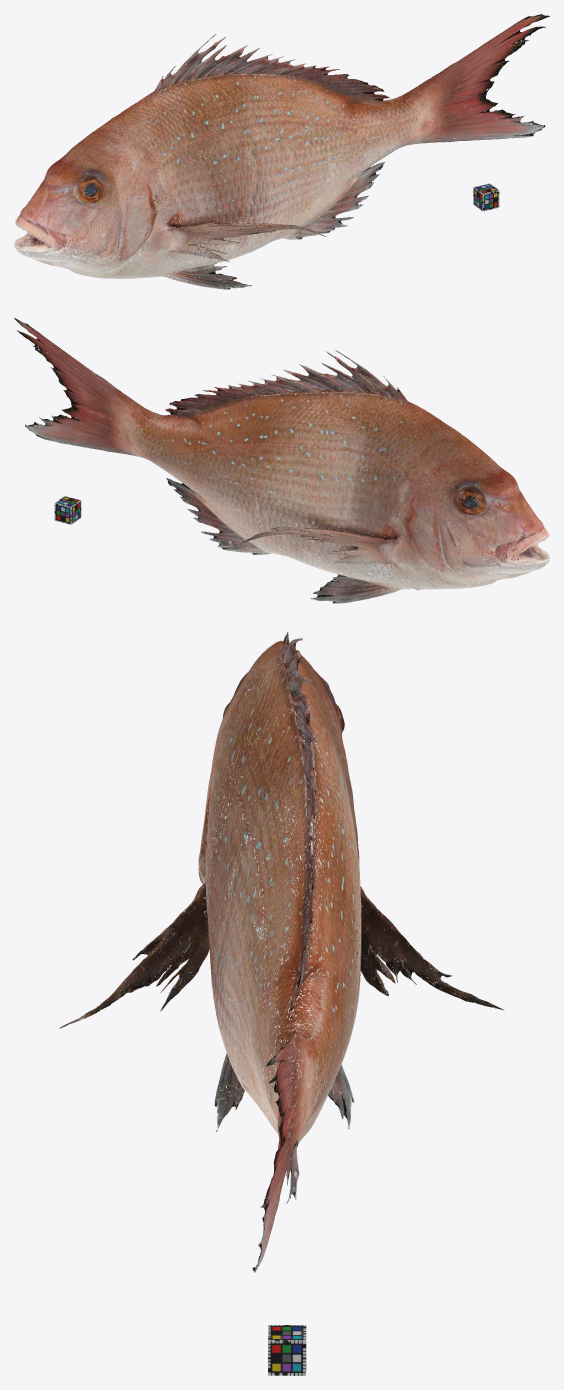
Rendered from scan_redseabream.glb.
3 renders of one model, top to bottom at view 1: azimuth 30°, elevation 25°; view 2: azimuth 150°, elevation 25°; view 3: azimuth 270°, elevation 25°, orthographic. The views are drawn at different scales.
Visible parts, largest first — view 1: Object_6, Object_12, Object_18, Object_4; view 2: Object_18, Object_12, Object_6, Object_4; view 3: Object_6, Object_12, Object_18, Object_4.
Part boxes in pixels (bbox=[...]): Object_6: bbox=[15, 15, 545, 289]; Object_12: bbox=[14, 15, 546, 289]; Object_18: bbox=[14, 14, 549, 289]; Object_4: bbox=[473, 183, 499, 211]; Object_18: bbox=[14, 318, 549, 601]; Object_12: bbox=[21, 323, 549, 603]; Object_6: bbox=[18, 329, 548, 603]; Object_4: bbox=[54, 496, 81, 524]; Object_6: bbox=[59, 634, 503, 1272]; Object_12: bbox=[60, 632, 500, 1272]; Object_18: bbox=[60, 632, 493, 1261]; Object_4: bbox=[268, 1325, 306, 1375].
Size of the model in its own units: 19.78 by 8.58 by 7.22.
Materials: 4 (4 with a texture image).
